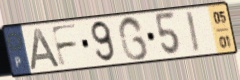5: (153, 11, 182, 59)
9: (89, 19, 117, 64)
A: (29, 27, 63, 72)
F: (49, 22, 80, 69)
G: (117, 15, 151, 63)
I: (183, 10, 202, 56)
